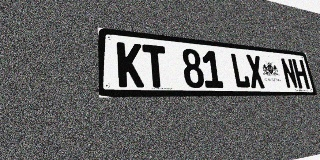1: (201, 50, 224, 88)
8: (181, 48, 205, 88)
H: (292, 59, 310, 89)
K: (117, 42, 144, 87)
L: (230, 53, 251, 88)
N: (280, 58, 299, 89)
T: (142, 44, 168, 88)
X: (245, 54, 266, 88)
